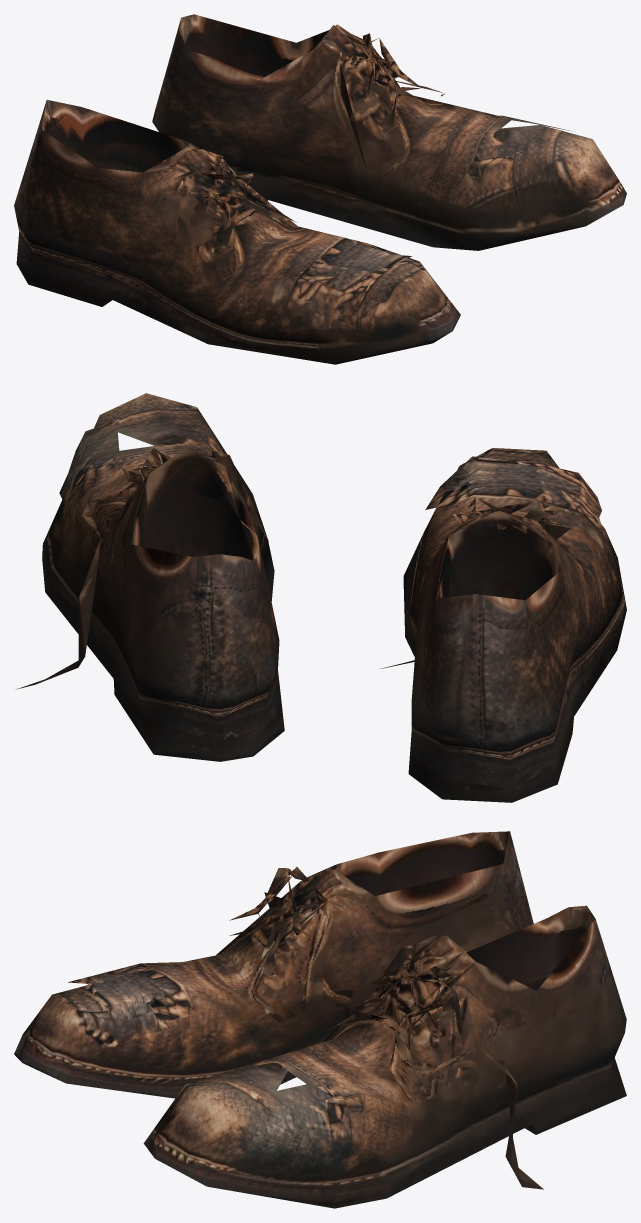
The model's file is act1_kit_v1_worn_shoes.glb.
3 views of the same model, one above another, from view 1: azimuth 30°, elevation 25°; view 2: azimuth 150°, elevation 25°; view 3: azimuth 270°, elevation 25° (orthographic). The views are drawn at different scales.
Visible parts, largest first — view 1: A22_1_worn_shoes; view 2: A22_1_worn_shoes; view 3: A22_1_worn_shoes.
Part boxes in pixels (<box>): A22_1_worn_shoes: <box>14,14,626,364</box>; A22_1_worn_shoes: <box>16,393,626,802</box>; A22_1_worn_shoes: <box>14,831,626,1208</box>.
Size of the model in its own units: 1 by 0.3744 by 0.9817.
1 material, 1 textured.
